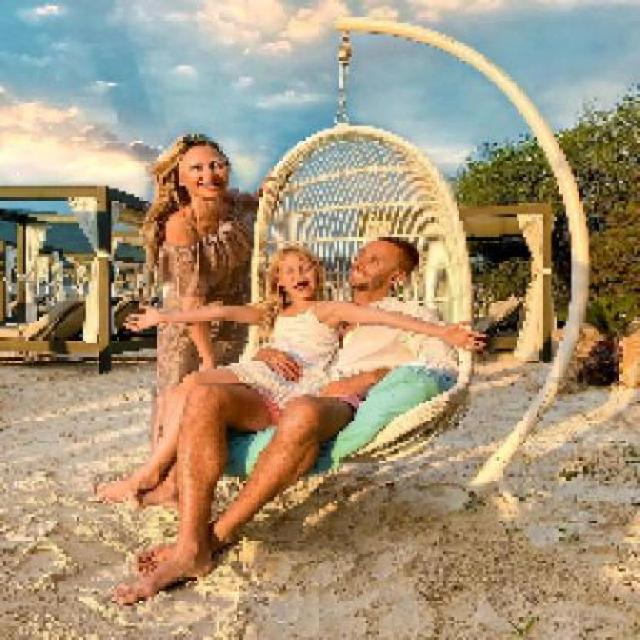child: (92, 246, 488, 503)
